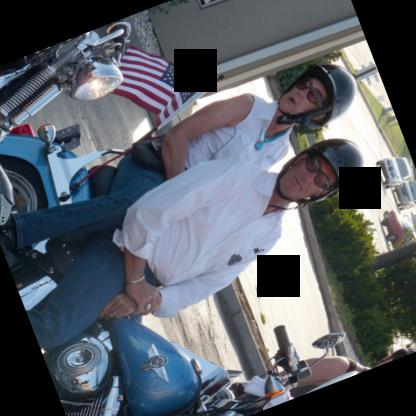handbag: (130, 137, 164, 173)
